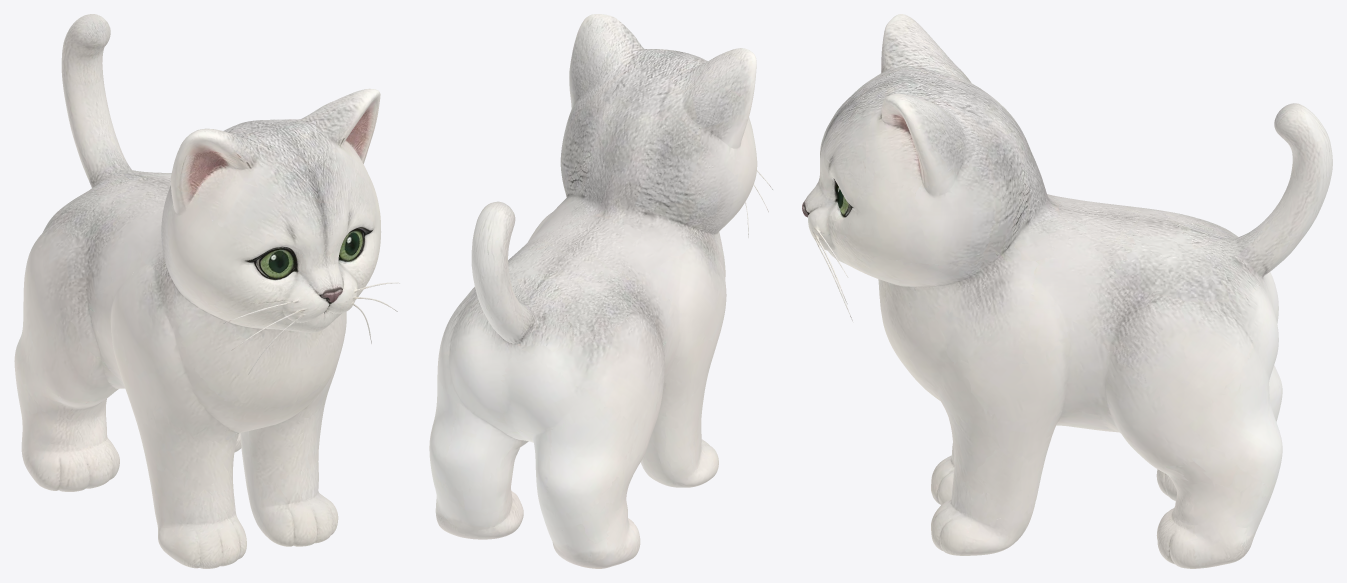
Rendered from meshy-silvershaded.glb.
3 renders of one model, left to right at view 1: azimuth 30°, elevation 25°; view 2: azimuth 150°, elevation 25°; view 3: azimuth 270°, elevation 25°, orthographic. The views are drawn at different scales.
Parts seen in each view (by area): view 1: Mesh_0; view 2: Mesh_0; view 3: Mesh_0.
Part boxes in pixels (x1,y1,x2,y2): Mesh_0: (14,14,399,568); Mesh_0: (429,14,772,568); Mesh_0: (802,14,1332,568).
Size of the model in its own units: 0.9133 by 1.85 by 1.9.
Materials: 1 (1 with a texture image).
